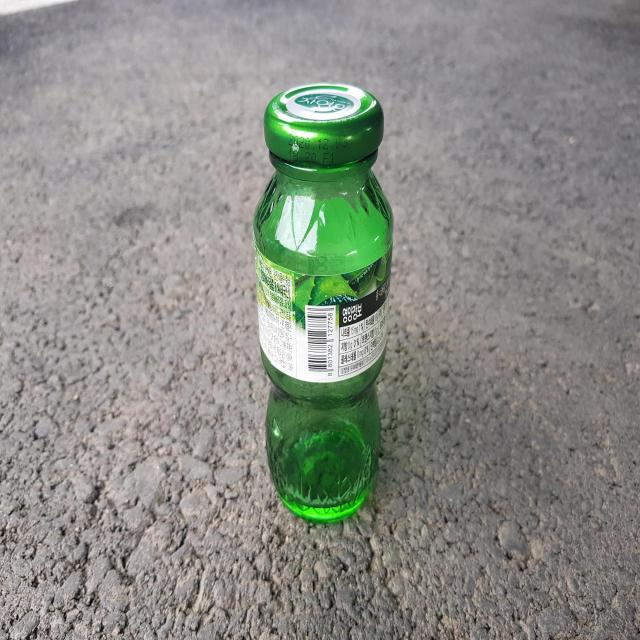glass: (254, 82, 394, 522)
